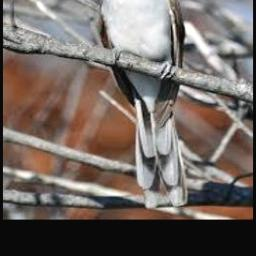Cuckoo: (79, 0, 187, 206)
